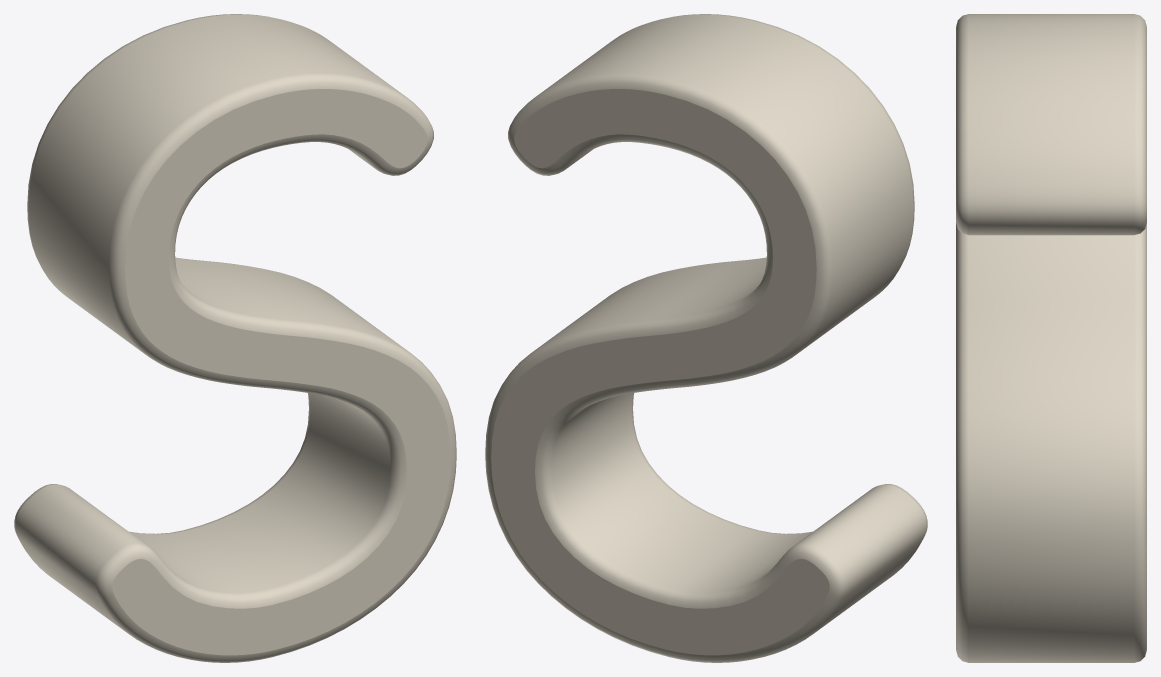
Rendered from letter_s.glb.
3 renders of one model, left to right at view 1: azimuth 30°, elevation 25°; view 2: azimuth 150°, elevation 25°; view 3: azimuth 270°, elevation 25°, orthographic. The views are drawn at different scales.
Visible parts, largest first — view 1: color_body; view 2: color_body; view 3: color_body.
Boxes of the visible parts, box(x1,y1,x2,y2) form: color_body: box(14, 14, 456, 662); color_body: box(485, 14, 927, 662); color_body: box(956, 14, 1146, 662).
Size of the model in its own units: 0.5461 by 0.8373 by 0.242.
